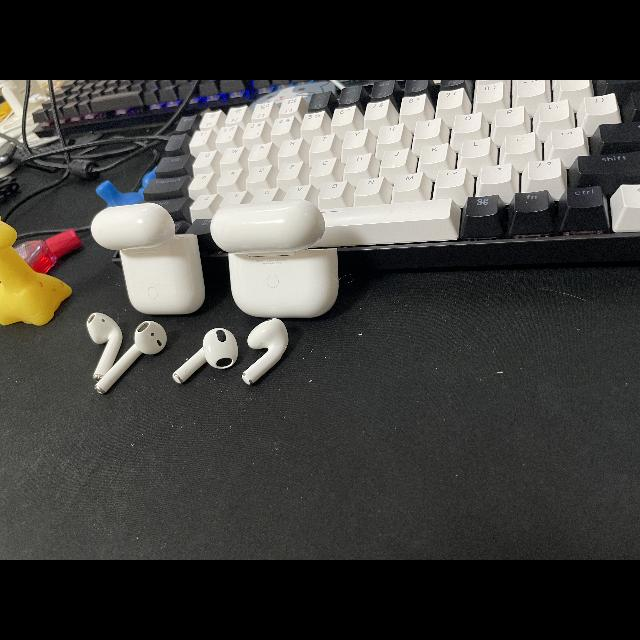airpod2: (62, 200, 208, 402)
airpod3: (170, 199, 338, 395)
